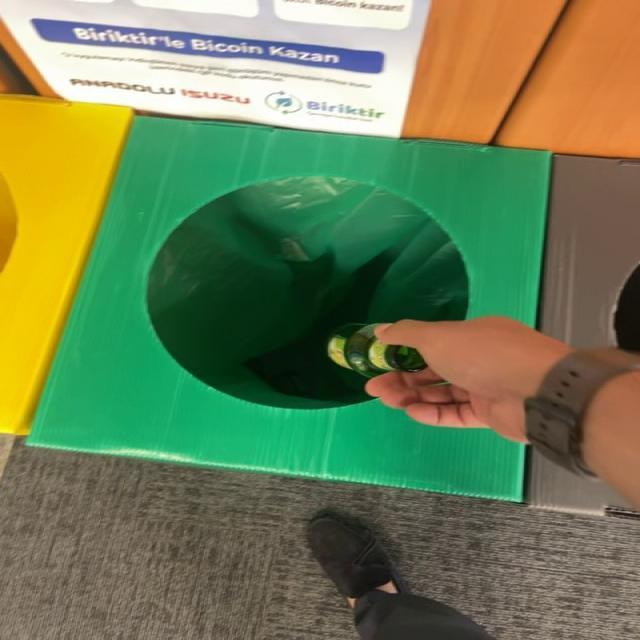Glass: (328, 324, 427, 378)
